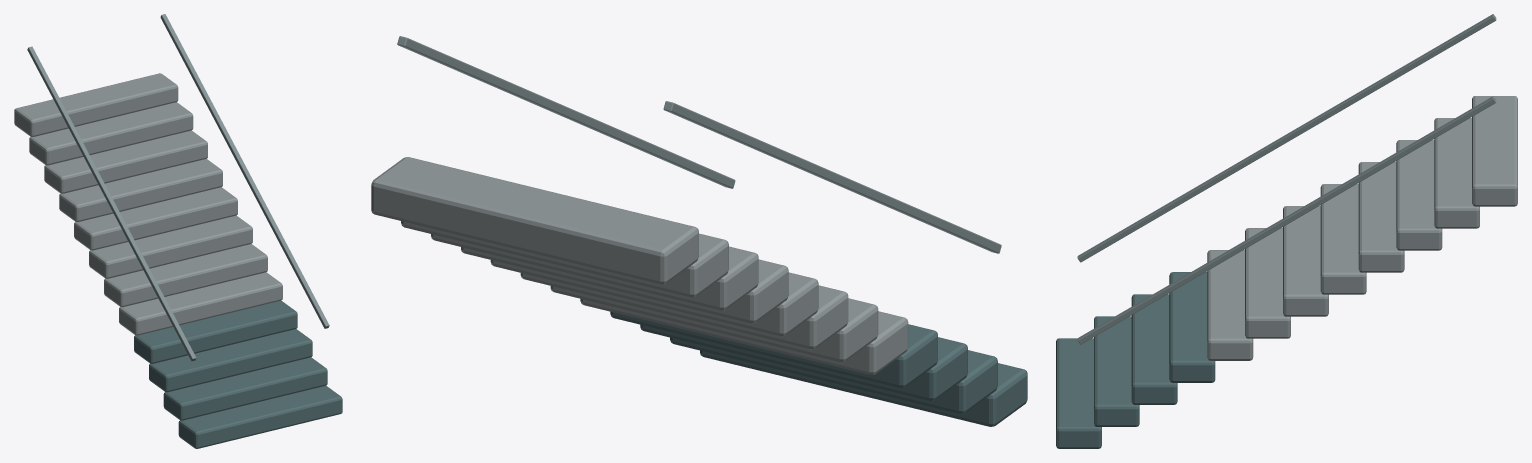
File: SM_FC01_Civil_Stairs_A.fbx
3 views of the same model, side by side, from view 1: azimuth 30°, elevation 25°; view 2: azimuth 150°, elevation 25°; view 3: azimuth 270°, elevation 25° (orthographic). The views are drawn at different scales.
Parts seen in each view (by area): view 1: SM_FC01_Civil_Stairs_A_Step_01, SM_FC01_Civil_Stairs_A_Step_00, SM_FC01_Civil_Stairs_A_Step_02, SM_FC01_Civil_Stairs_A_Step_11, SM_FC01_Civil_Stairs_A_Step_10, SM_FC01_Civil_Stairs_A_Step_08, SM_FC01_Civil_Stairs_A_Step_03, SM_FC01_Civil_Stairs_A_Step_04, SM_FC01_Civil_Stairs_A_Step_07, SM_FC01_Civil_Stairs_A_Step_05, SM_FC01_Civil_Stairs_A_Step_06, SM_FC01_Civil_Stairs_A_Step_09 (+2 smaller); view 2: SM_FC01_Civil_Stairs_A_Step_11, SM_FC01_Civil_Stairs_A_Handrail_0.72, SM_FC01_Civil_Stairs_A_Handrail_-0.72, SM_FC01_Civil_Stairs_A_Step_07, SM_FC01_Civil_Stairs_A_Step_08, SM_FC01_Civil_Stairs_A_Step_04, SM_FC01_Civil_Stairs_A_Step_06, SM_FC01_Civil_Stairs_A_Step_05, SM_FC01_Civil_Stairs_A_Step_09, SM_FC01_Civil_Stairs_A_Step_10, SM_FC01_Civil_Stairs_A_Step_02, SM_FC01_Civil_Stairs_A_Step_00 (+2 smaller); view 3: SM_FC01_Civil_Stairs_A_Step_11, SM_FC01_Civil_Stairs_A_Step_00, SM_FC01_Civil_Stairs_A_Step_09, SM_FC01_Civil_Stairs_A_Step_07, SM_FC01_Civil_Stairs_A_Step_08, SM_FC01_Civil_Stairs_A_Step_02, SM_FC01_Civil_Stairs_A_Step_03, SM_FC01_Civil_Stairs_A_Step_04, SM_FC01_Civil_Stairs_A_Step_06, SM_FC01_Civil_Stairs_A_Step_05, SM_FC01_Civil_Stairs_A_Step_10, SM_FC01_Civil_Stairs_A_Step_01 (+2 smaller).
Part boxes in pixels (left/top/right/bottom): SM_FC01_Civil_Stairs_A_Step_01: left=163, top=357, right=327, bottom=420; SM_FC01_Civil_Stairs_A_Step_00: left=178, top=385, right=342, bottom=448; SM_FC01_Civil_Stairs_A_Step_02: left=149, top=329, right=312, bottom=392; SM_FC01_Civil_Stairs_A_Step_11: left=14, top=73, right=178, bottom=136; SM_FC01_Civil_Stairs_A_Step_10: left=29, top=102, right=193, bottom=165; SM_FC01_Civil_Stairs_A_Step_08: left=59, top=159, right=222, bottom=222; SM_FC01_Civil_Stairs_A_Step_03: left=134, top=300, right=297, bottom=363; SM_FC01_Civil_Stairs_A_Step_04: left=119, top=272, right=282, bottom=335; SM_FC01_Civil_Stairs_A_Step_07: left=74, top=187, right=237, bottom=250; SM_FC01_Civil_Stairs_A_Step_05: left=104, top=244, right=267, bottom=307; SM_FC01_Civil_Stairs_A_Step_06: left=89, top=215, right=252, bottom=278; SM_FC01_Civil_Stairs_A_Step_09: left=44, top=130, right=207, bottom=193; SM_FC01_Civil_Stairs_A_Step_11: left=371, top=157, right=698, bottom=284; SM_FC01_Civil_Stairs_A_Handrail_0.72: left=397, top=36, right=735, bottom=188; SM_FC01_Civil_Stairs_A_Handrail_-0.72: left=663, top=101, right=1001, bottom=253; SM_FC01_Civil_Stairs_A_Step_07: left=490, top=260, right=818, bottom=336; SM_FC01_Civil_Stairs_A_Step_08: left=461, top=247, right=788, bottom=323; SM_FC01_Civil_Stairs_A_Step_04: left=580, top=298, right=908, bottom=374; SM_FC01_Civil_Stairs_A_Step_06: left=520, top=273, right=848, bottom=349; SM_FC01_Civil_Stairs_A_Step_05: left=550, top=286, right=878, bottom=361; SM_FC01_Civil_Stairs_A_Step_09: left=431, top=234, right=758, bottom=310; SM_FC01_Civil_Stairs_A_Step_10: left=401, top=221, right=728, bottom=297; SM_FC01_Civil_Stairs_A_Step_02: left=640, top=324, right=967, bottom=400; SM_FC01_Civil_Stairs_A_Step_00: left=700, top=350, right=1027, bottom=426; SM_FC01_Civil_Stairs_A_Step_11: left=1472, top=96, right=1517, bottom=206; SM_FC01_Civil_Stairs_A_Step_00: left=1056, top=338, right=1101, bottom=448; SM_FC01_Civil_Stairs_A_Step_09: left=1396, top=140, right=1442, bottom=250; SM_FC01_Civil_Stairs_A_Step_07: left=1320, top=184, right=1366, bottom=294; SM_FC01_Civil_Stairs_A_Step_08: left=1358, top=162, right=1404, bottom=272; SM_FC01_Civil_Stairs_A_Step_02: left=1131, top=294, right=1177, bottom=404; SM_FC01_Civil_Stairs_A_Step_03: left=1169, top=272, right=1215, bottom=382; SM_FC01_Civil_Stairs_A_Step_04: left=1207, top=250, right=1253, bottom=360; SM_FC01_Civil_Stairs_A_Step_06: left=1283, top=206, right=1328, bottom=316; SM_FC01_Civil_Stairs_A_Step_05: left=1245, top=228, right=1290, bottom=338; SM_FC01_Civil_Stairs_A_Step_10: left=1434, top=118, right=1479, bottom=228; SM_FC01_Civil_Stairs_A_Step_01: left=1094, top=316, right=1139, bottom=426.
Bounding box in the file's own units: 1.6 × 2.85 × 3.42.
